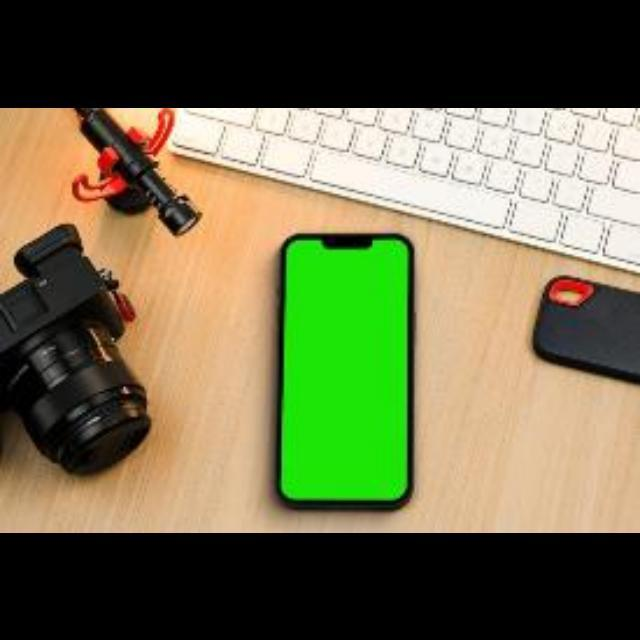Phone: (278, 232, 417, 512)
